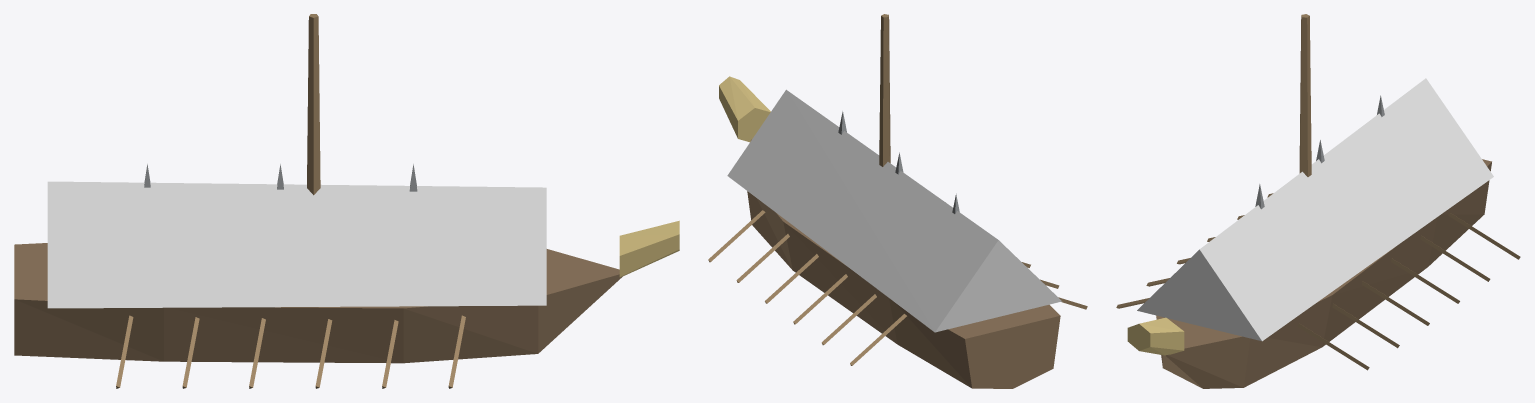
The model's file is turtle-ship.glb.
3 renders of one model, left to right at view 1: azimuth 30°, elevation 25°; view 2: azimuth 150°, elevation 25°; view 3: azimuth 270°, elevation 25°, orthographic. The views are drawn at different scales.
Parts seen in each view (by area): view 1: LOD0; view 2: LOD0; view 3: LOD0.
Part boxes in pixels (x1,y1,x2,y2): LOD0: (14,14,679,388); LOD0: (708,14,1087,388); LOD0: (1116,14,1520,388).
Size of what is drawn, in the model's own units: 1.85 by 1.09 by 1.34.
